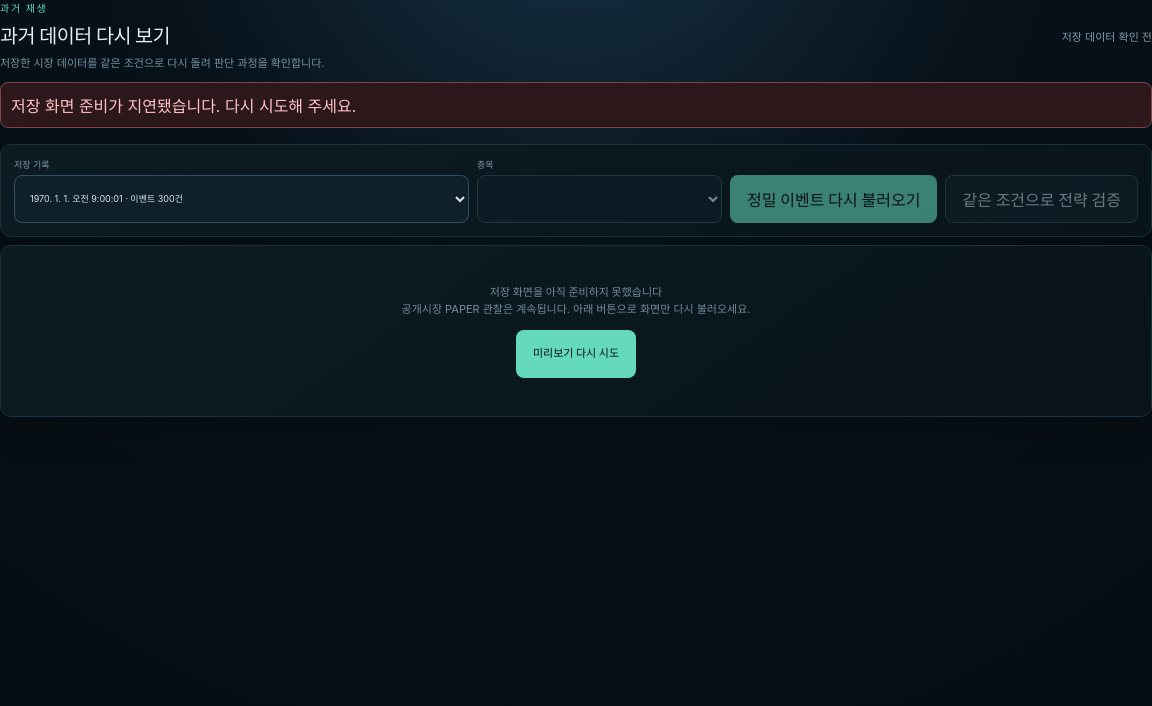
offers one clear retry action when the saved-run preview fails
The width and height of the screenshot is (1152, 706).
expect the message shows "저장 화면 준비가 지연됐습니다.": met, box 11,96 -> 356,116
Click the button "미리보기 다시 시도" at [576, 354], box 516,330 -> 636,378
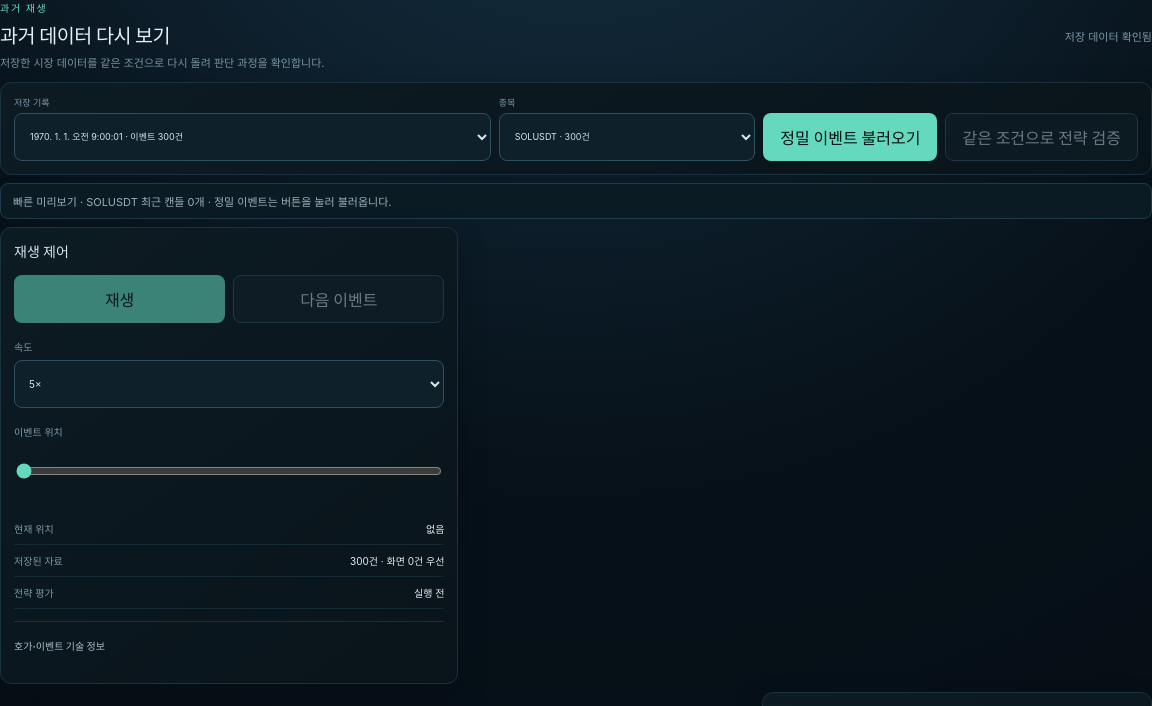
expect the text "빠른 미리보기 · SOLUSDT 최근 캔들 0개 · 정밀 이벤트는 버튼을 눌러 불러옵니다." is shown: met, box 0,182 -> 1151,218
